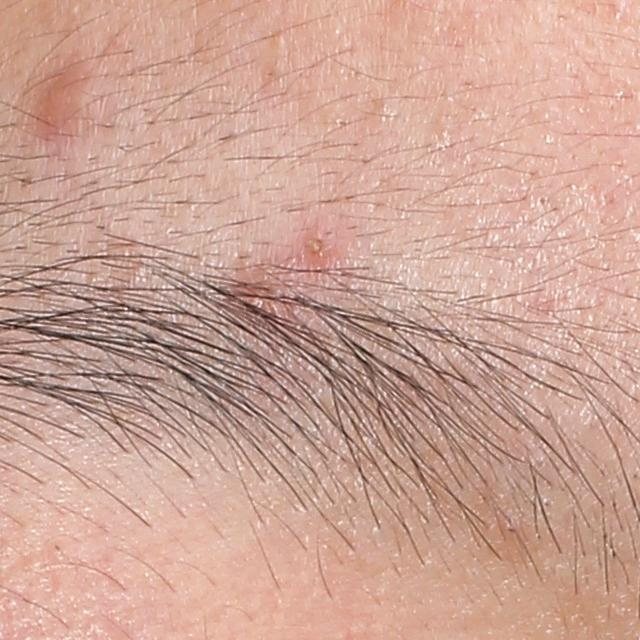papule: (38, 70, 94, 140)
